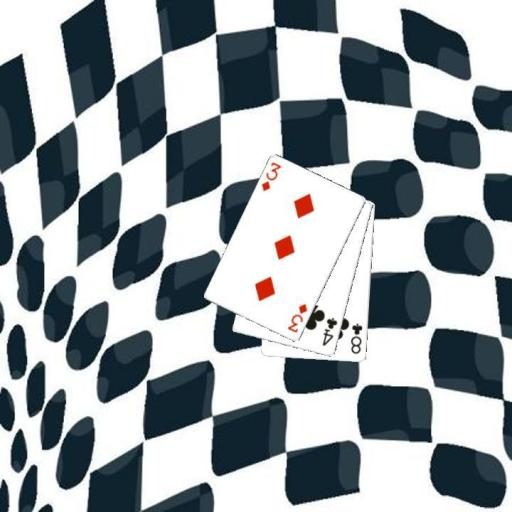3D: (258, 159, 283, 193), (285, 300, 309, 334)
4C: (320, 315, 339, 348)
8C: (348, 321, 364, 356)
